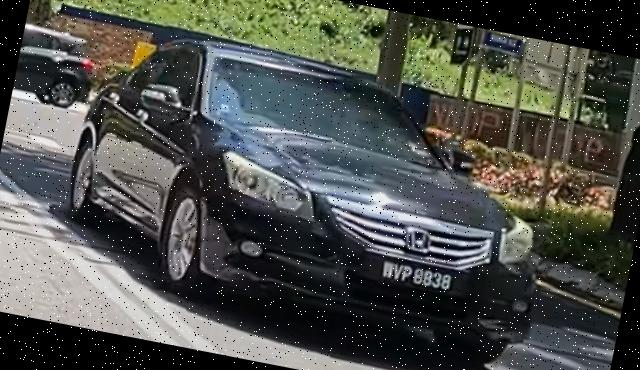License_Plate: (379, 257, 456, 295)
car: (49, 16, 574, 370)
